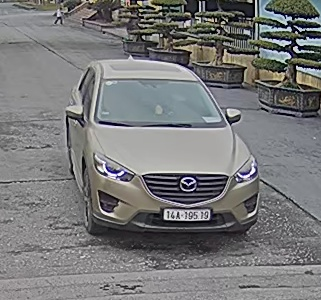vehicle plate: (161, 205, 214, 221)
